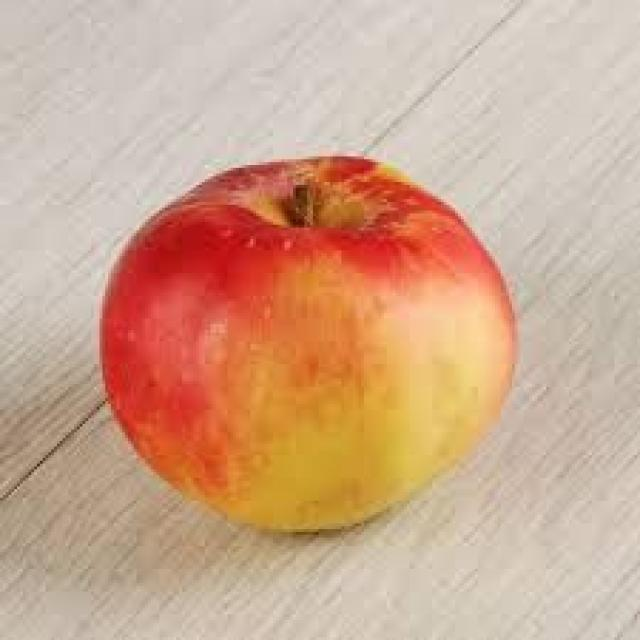Healty Apple: (101, 159, 522, 532)
